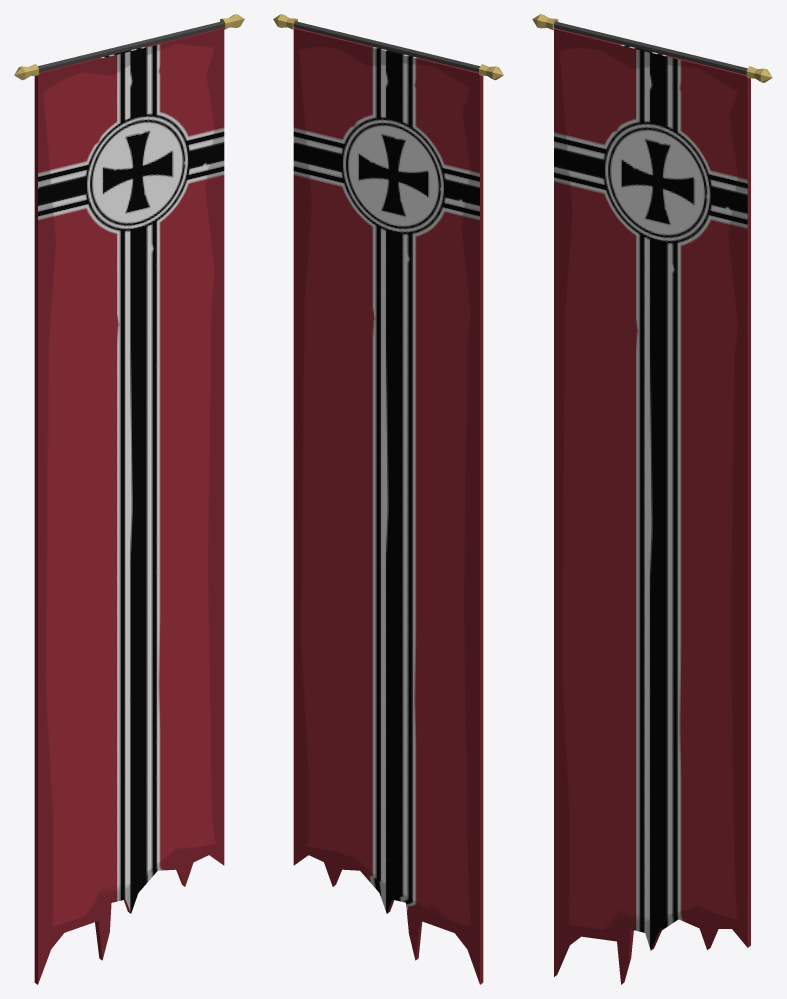
Rendered from SM_Env_Flag_Long_Ripped_Germany_C.fbx.
3 views of the same model, side by side, from view 1: azimuth 30°, elevation 25°; view 2: azimuth 150°, elevation 25°; view 3: azimuth 330°, elevation 25° (orthographic). The views are drawn at different scales.
Parts seen in each view (by area): view 1: SM_Env_Flag_Long_Ripped_Germany_C; view 2: SM_Env_Flag_Long_Ripped_Germany_C; view 3: SM_Env_Flag_Long_Ripped_Germany_C.
Boxes of the visible parts, box(x1,y1,x2,y2) form: SM_Env_Flag_Long_Ripped_Germany_C: box(14, 14, 244, 984); SM_Env_Flag_Long_Ripped_Germany_C: box(273, 14, 503, 984); SM_Env_Flag_Long_Ripped_Germany_C: box(532, 14, 772, 984).
Bounding box in the file's own units: 0.0125 × 0.0476 × 0.000625.
